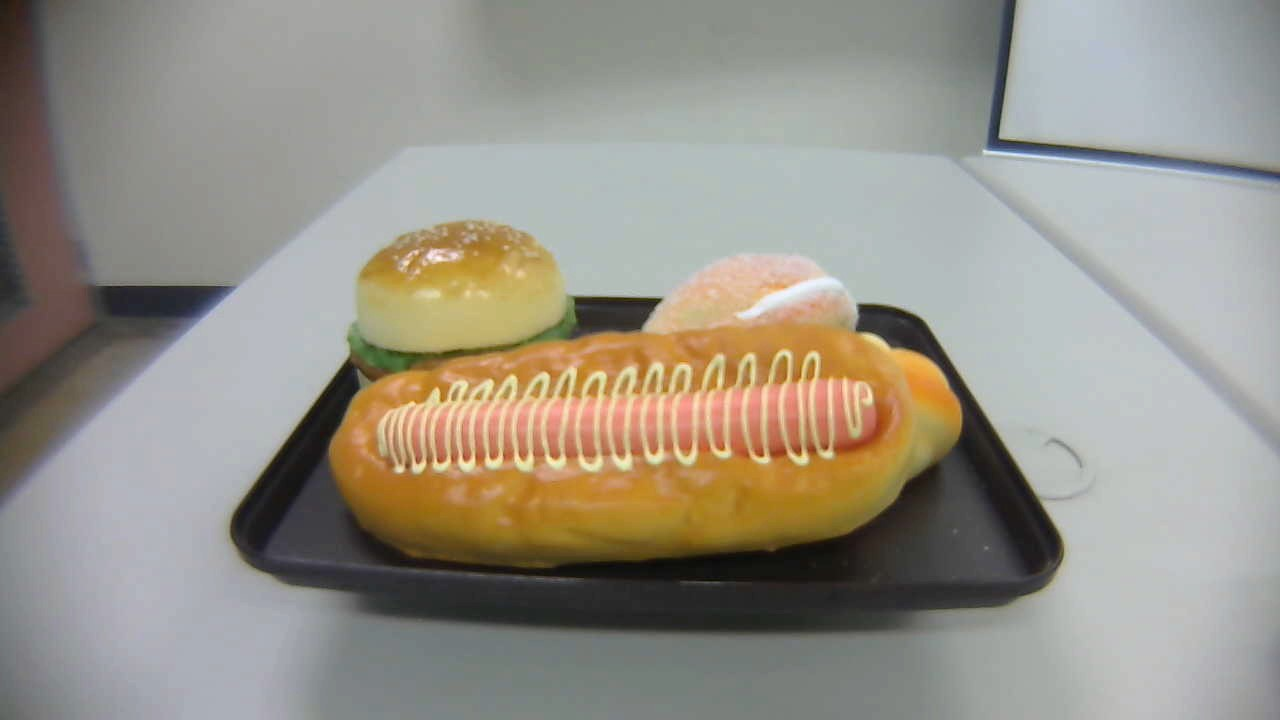coconut: (641, 253, 859, 353)
hamburger: (348, 218, 576, 405)
hot dog: (327, 331, 915, 571)
twist bread: (823, 331, 965, 486)
